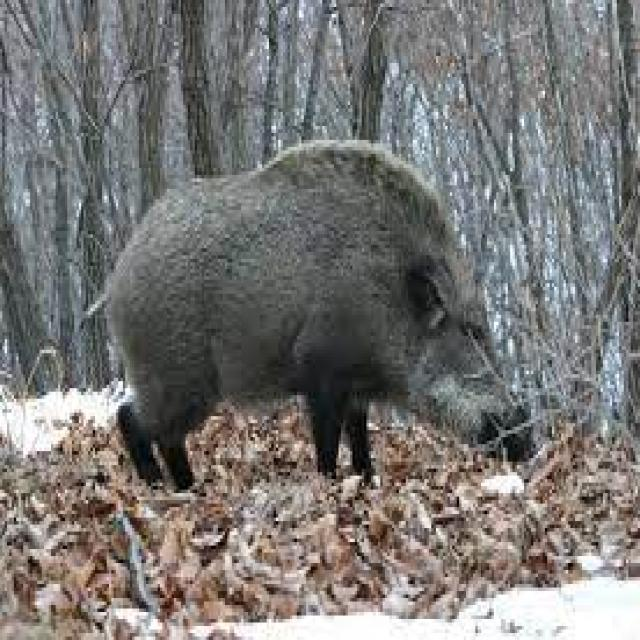boar: (73, 135, 541, 486)
